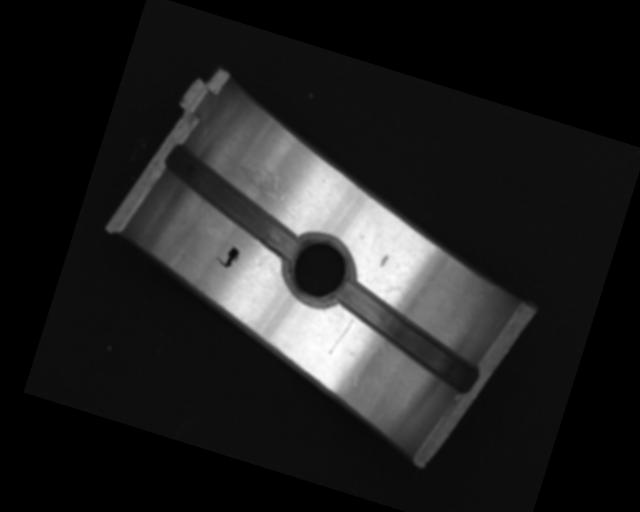blot: (213, 241, 242, 271)
bruise: (378, 252, 390, 269)
gap: (148, 143, 317, 261), (322, 278, 492, 393)
hole: (275, 228, 362, 314)
nick: (328, 314, 355, 359)
scratch: (204, 152, 306, 223)
